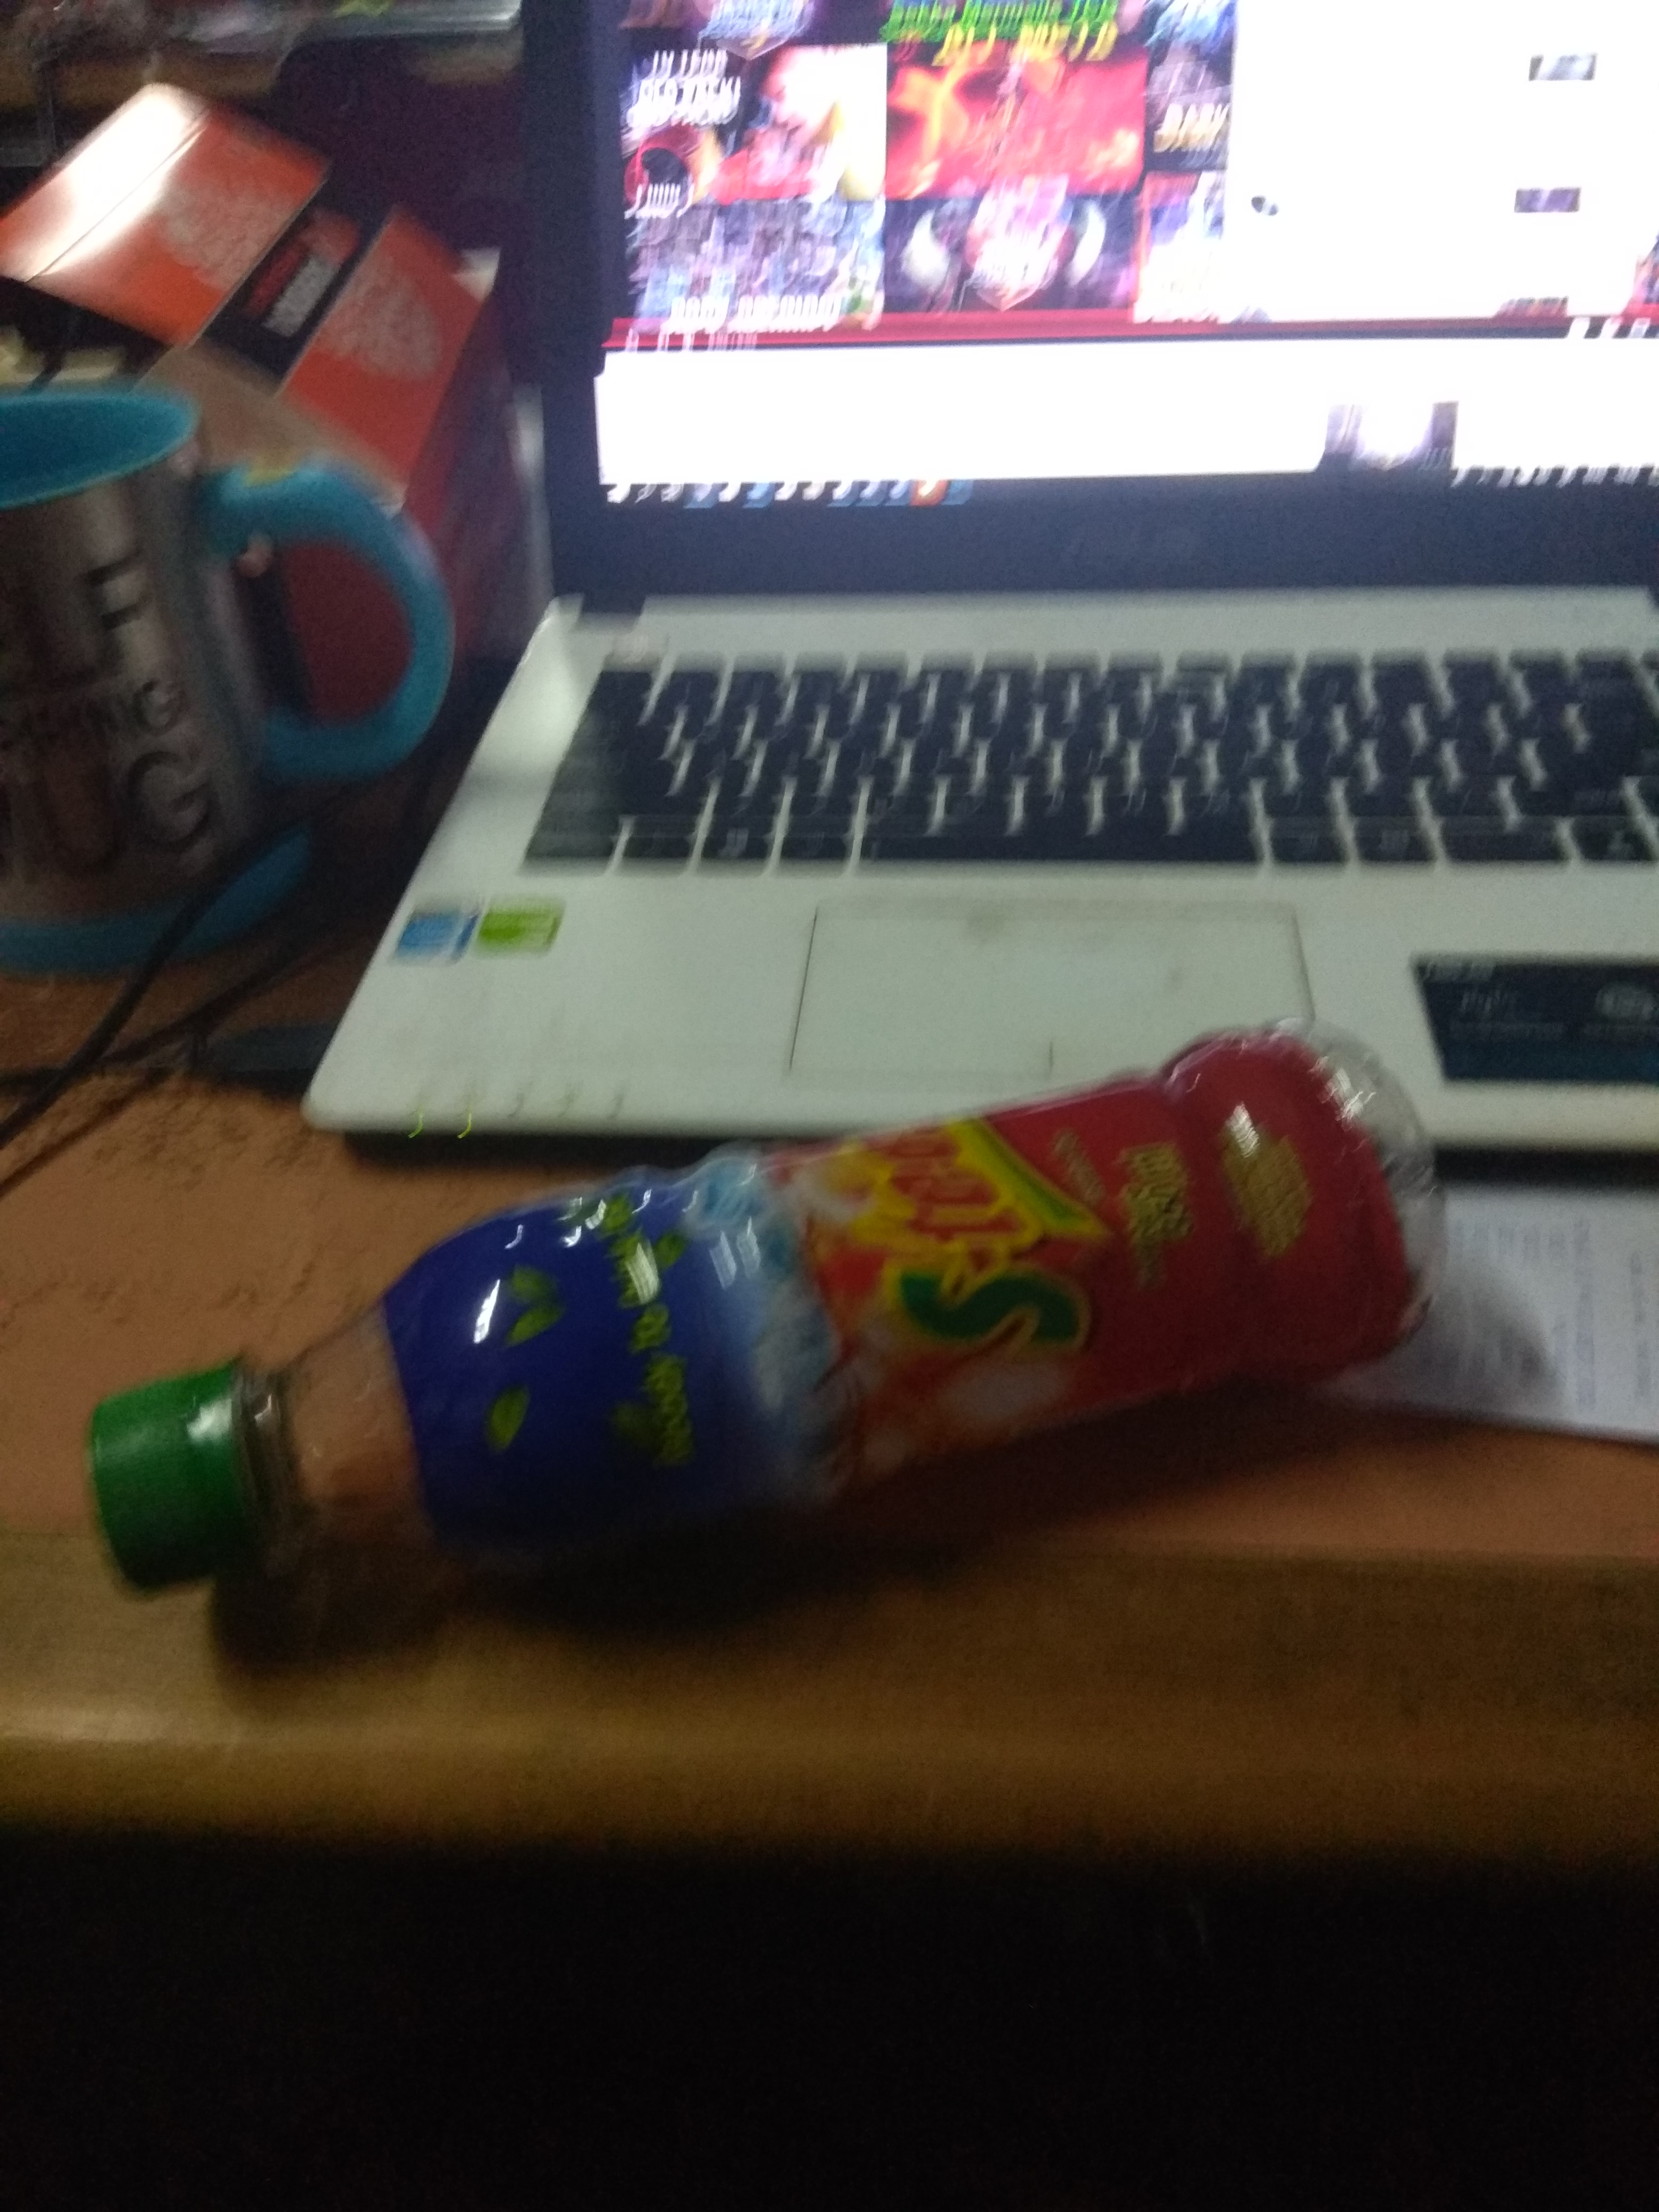botol: (89, 1015, 1448, 1587), (89, 1103, 1448, 1587)
